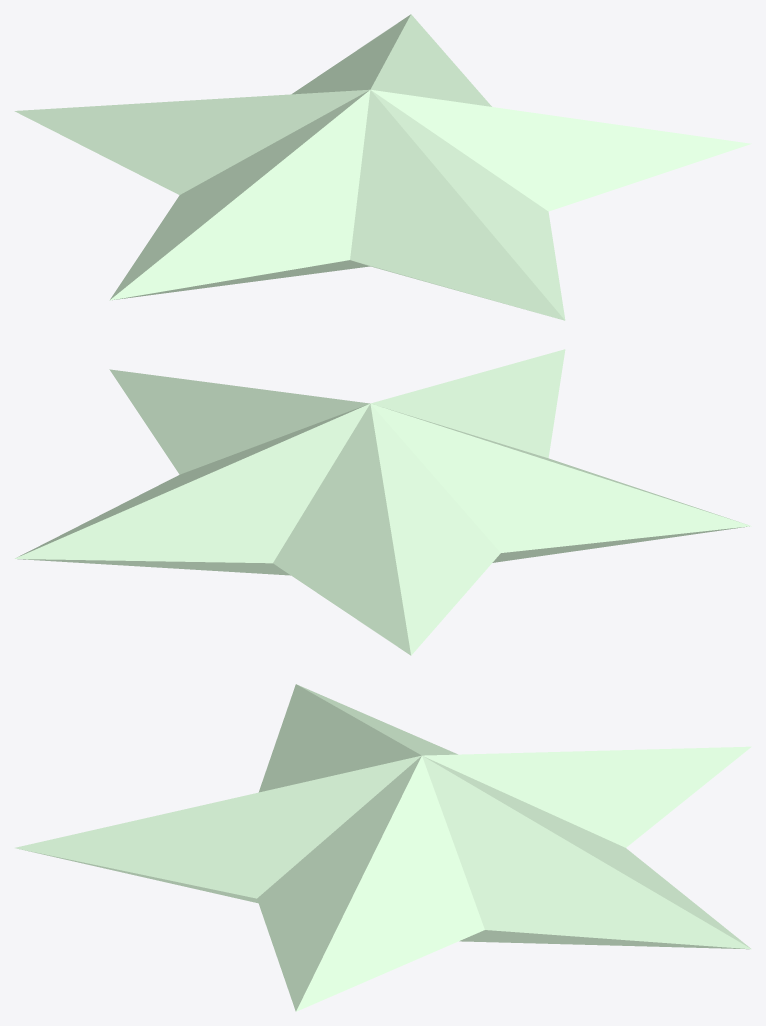
File: star_lightgreen2.glb
The picture shows the model from 3 angles, top to bottom: view 1: azimuth 30°, elevation 25°; view 2: azimuth 150°, elevation 25°; view 3: azimuth 270°, elevation 25°; orthographic projection. The views are drawn at different scales.
Parts seen in each view (by area): view 1: 円, 円.001; view 2: 円, 円.001; view 3: 円, 円.001.
Part boxes in pixels (<box>): 円: <box>14,14,751,320</box>; 円.001: <box>112,260,529,310</box>; 円: <box>14,349,751,655</box>; 円.001: <box>17,526,749,575</box>; 円: <box>15,684,751,1011</box>; 円.001: <box>19,849,749,949</box>.
Bounding box in the file's own units: 0.3805 × 0.1 × 0.3618.
